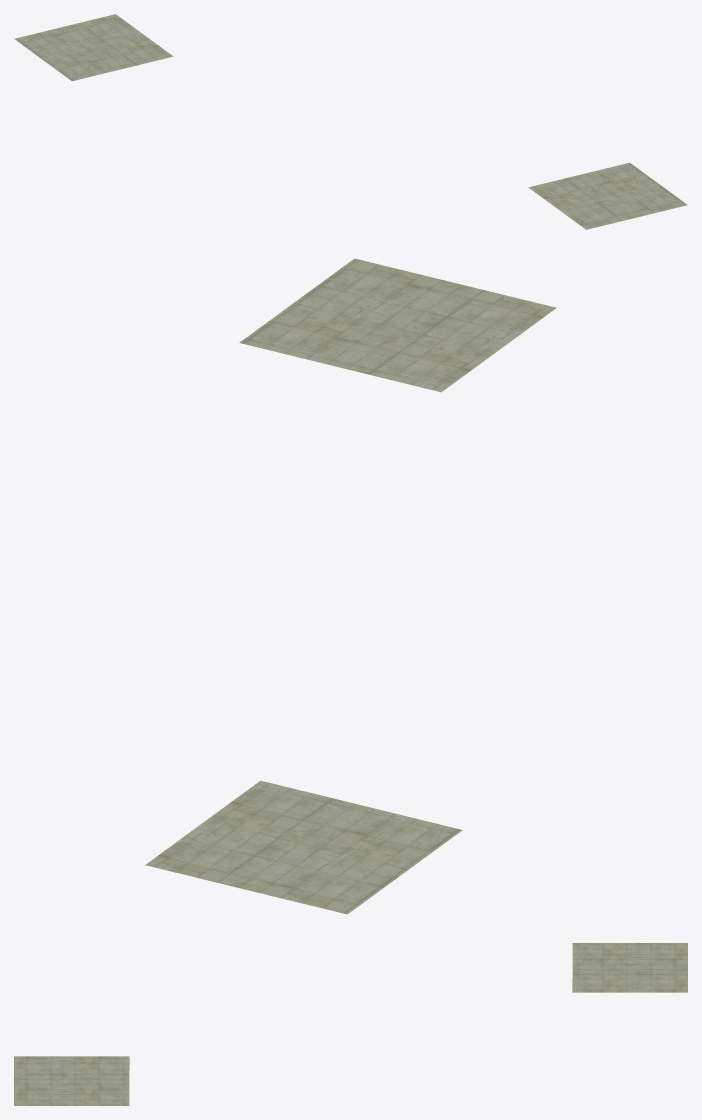
File: SM_LDFest_26_Wire.fbx
The picture shows the model from 3 angles, top to bottom: view 1: azimuth 30°, elevation 25°; view 2: azimuth 150°, elevation 25°; view 3: azimuth 270°, elevation 25°; orthographic projection. The views are drawn at different scales.
Parts seen in each view (by area): view 1: SM_LDFest_26_Wire; view 2: SM_LDFest_26_Wire; view 3: SM_LDFest_26_Wire.
Boxes of the visible parts, left/top/right/bottom form: SM_LDFest_26_Wire: left=14, top=14, right=687, bottom=229; SM_LDFest_26_Wire: left=145, top=258, right=556, bottom=914; SM_LDFest_26_Wire: left=14, top=943, right=687, bottom=1105.
Size of the model in its own units: 1736 by 0 by 3039.
